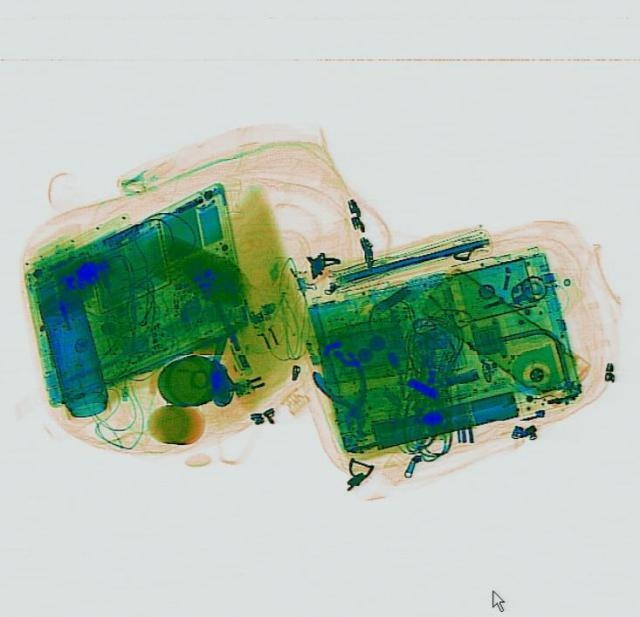Pliers: (308, 357, 382, 438)
